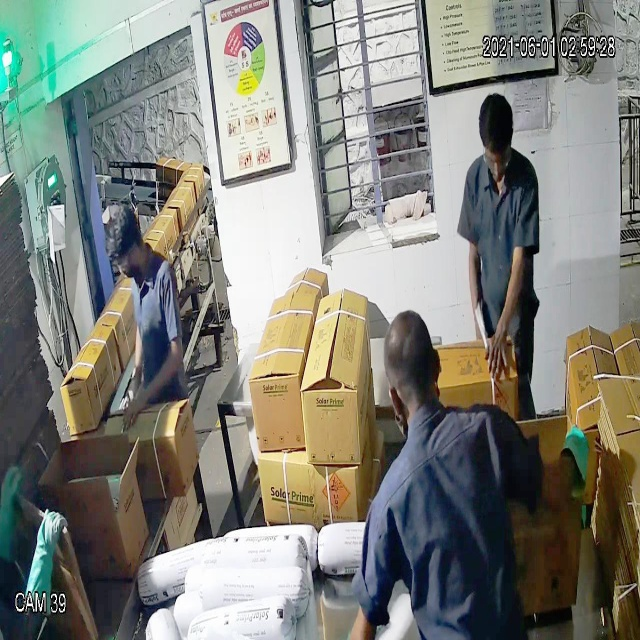Gafas: (477, 138, 517, 174)
